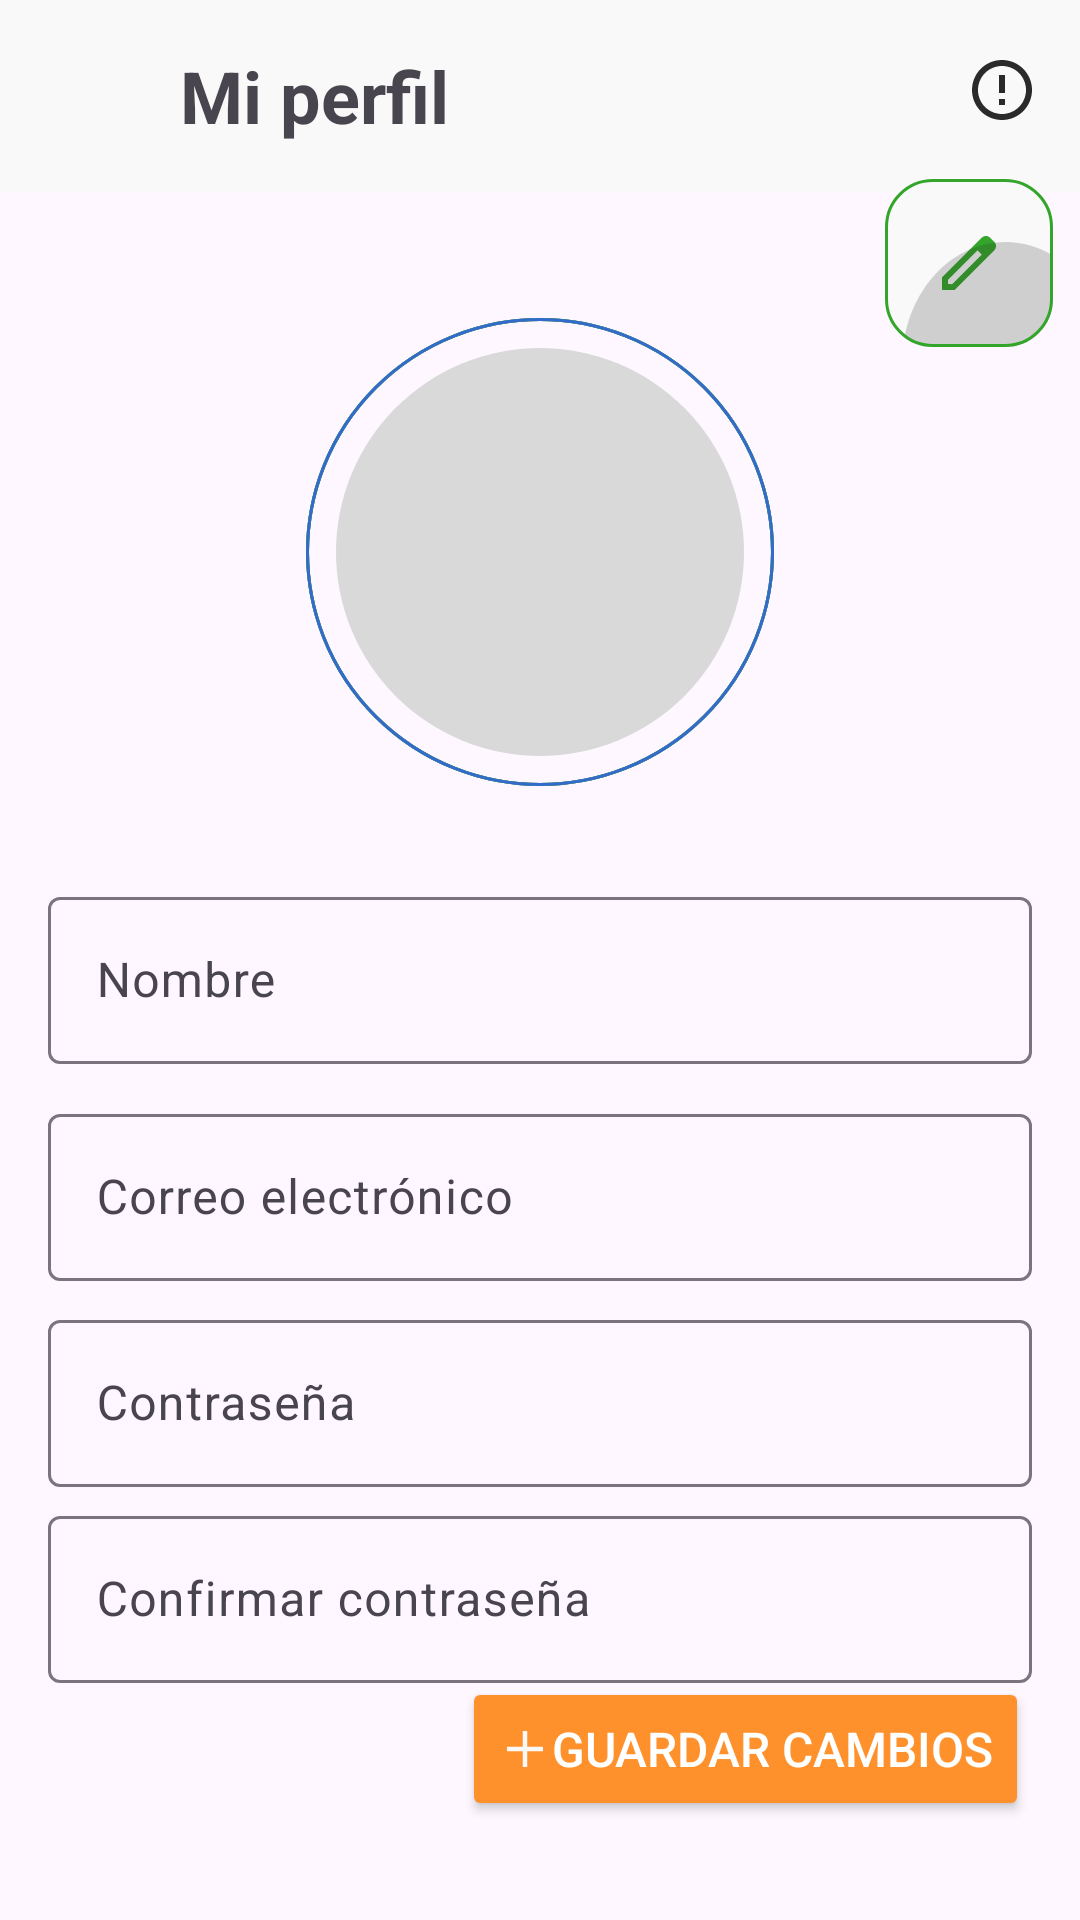

Icon bounding boxes for this 1080×1920 phone screenshot, format detection(x1, y1, x2, y2):
edit: detection(885, 179, 1053, 347)
